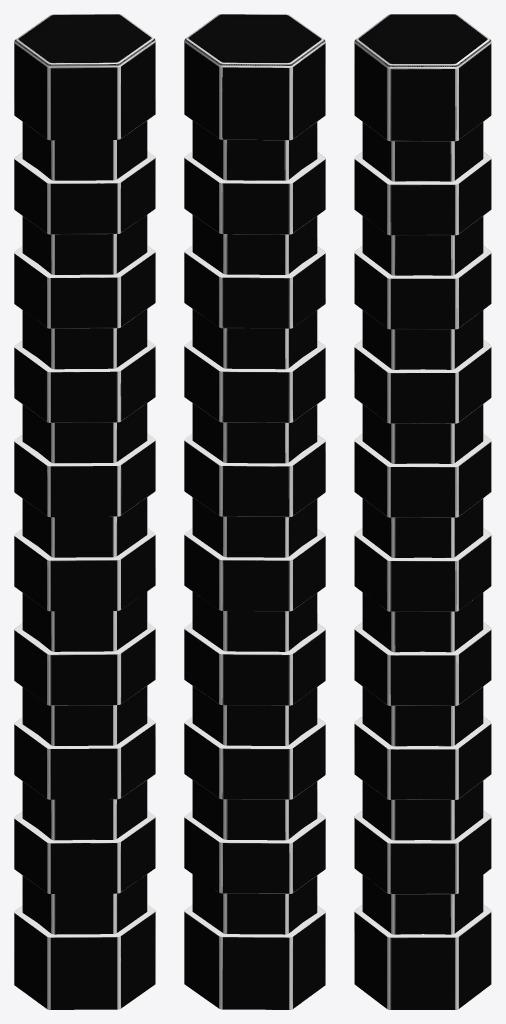
File: v3_Hexa_Off.fbx
3 renders of one model, left to right at view 1: azimuth 30°, elevation 25°; view 2: azimuth 150°, elevation 25°; view 3: azimuth 270°, elevation 25°, orthographic.
Visible parts, largest first — view 1: Hex_LP_Off; view 2: Hex_LP_Off; view 3: Hex_LP_Off.
Part boxes in pixels (x1,y1,x2,y2): Hex_LP_Off: (14, 14, 155, 1009); Hex_LP_Off: (184, 14, 325, 1009); Hex_LP_Off: (354, 14, 491, 1009).
Bounding box in the file's own units: 180 × 1500 × 198.
Materials: 1 (1 with a texture image).
